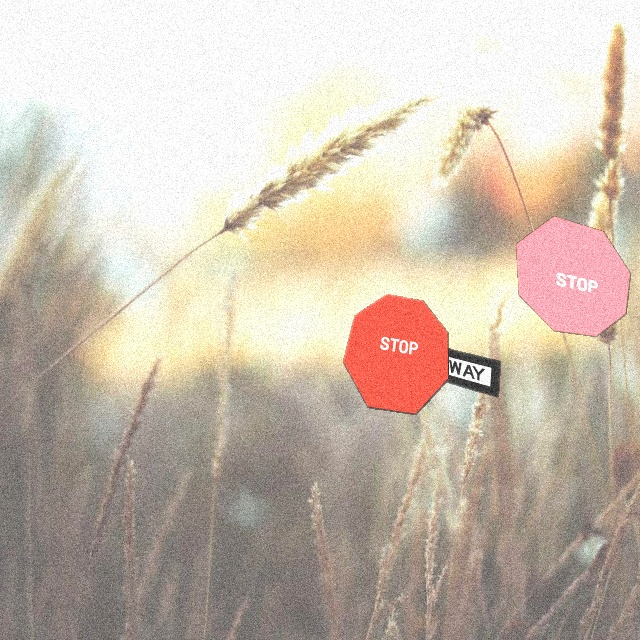ONE_WAY_ left: (379, 331, 501, 398)
STOP: (515, 215, 631, 337), (342, 293, 449, 415)
